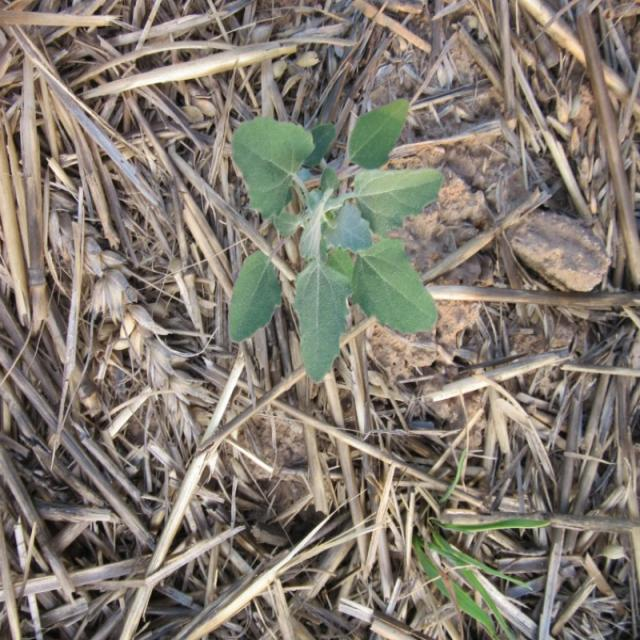ca: (228, 103, 439, 379)
